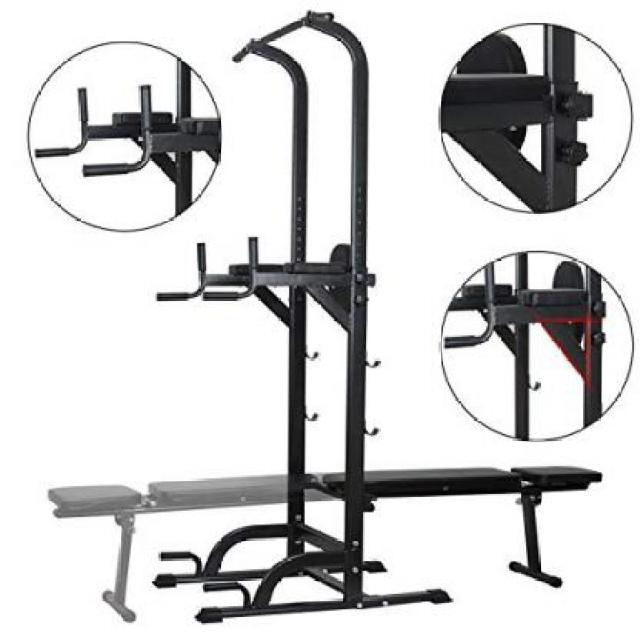chinning dipping: (155, 6, 388, 632)
